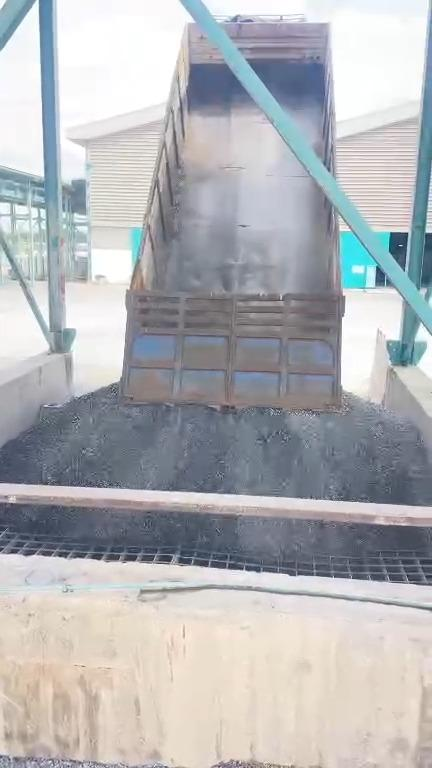gravel: (0, 385, 431, 504), (0, 507, 430, 561), (0, 756, 125, 767), (211, 760, 277, 767), (134, 763, 166, 767), (285, 766, 294, 767)
